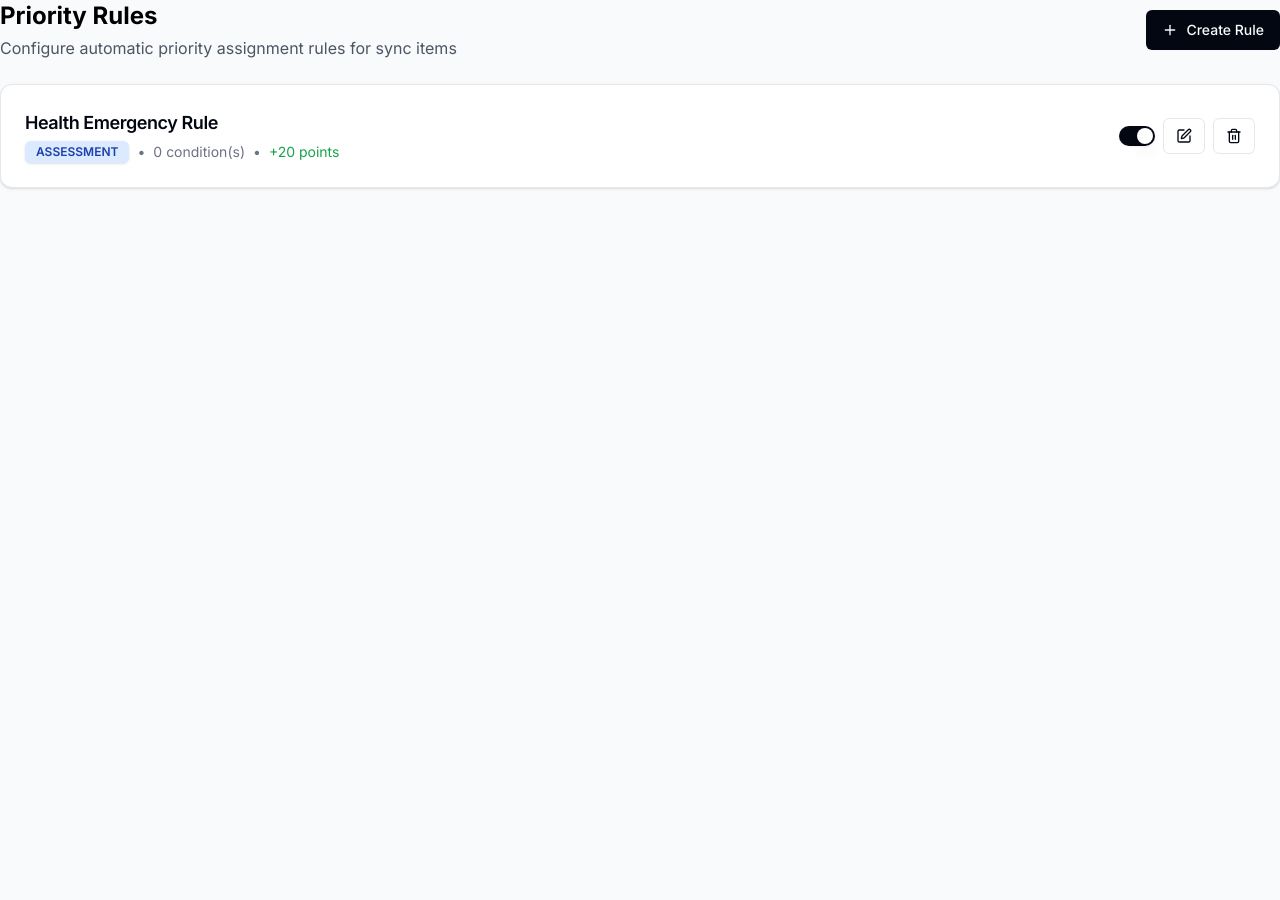
Scenario: PriorityRuleManager › opens create rule modal when create button is clicked
// Click the create rule button
Step 1. Click the button "Create Rule" → (1213, 30), box [1146,10,1279,50]
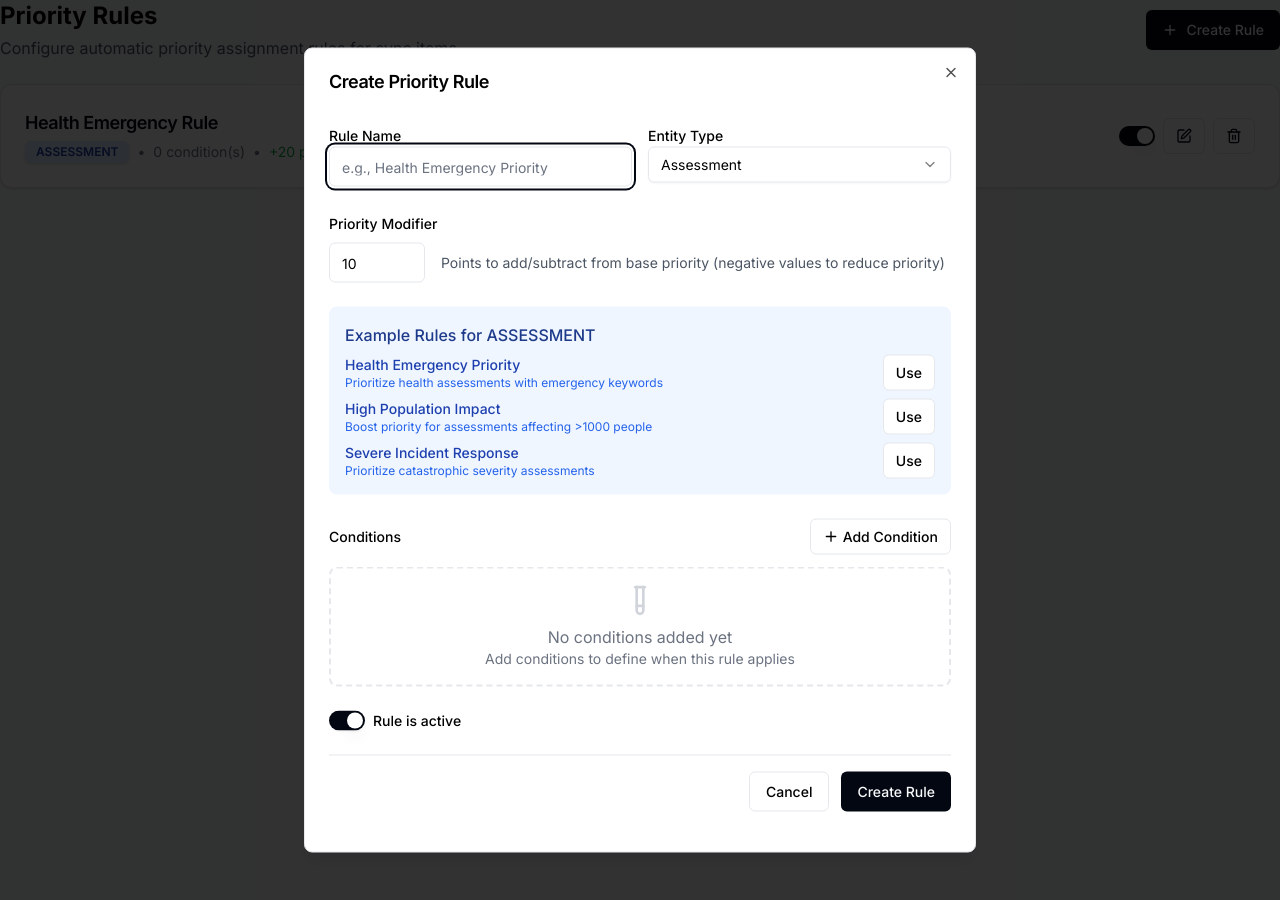
Result: the heading "Create Priority Rule" is shown at [329,70,489,92]
